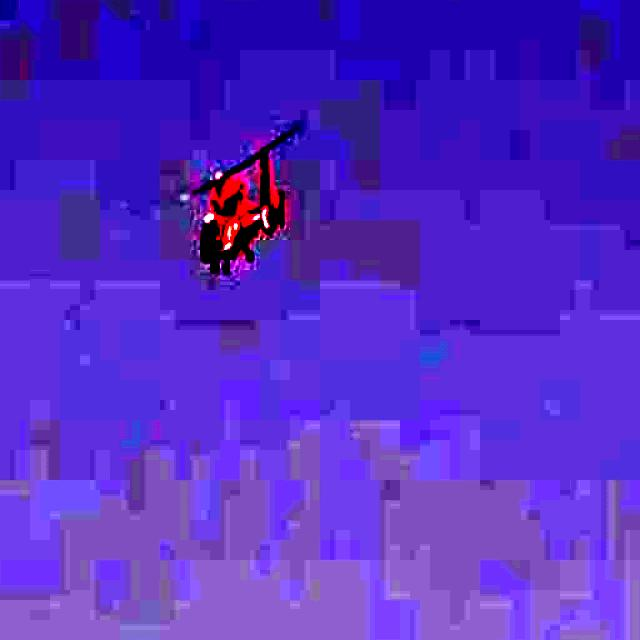drone: (129, 101, 349, 305)
